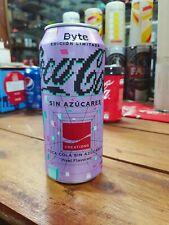metal: (40, 24, 105, 184)
